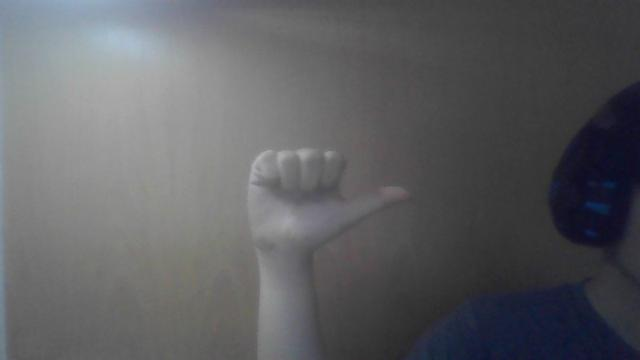left: (243, 145, 419, 267)
